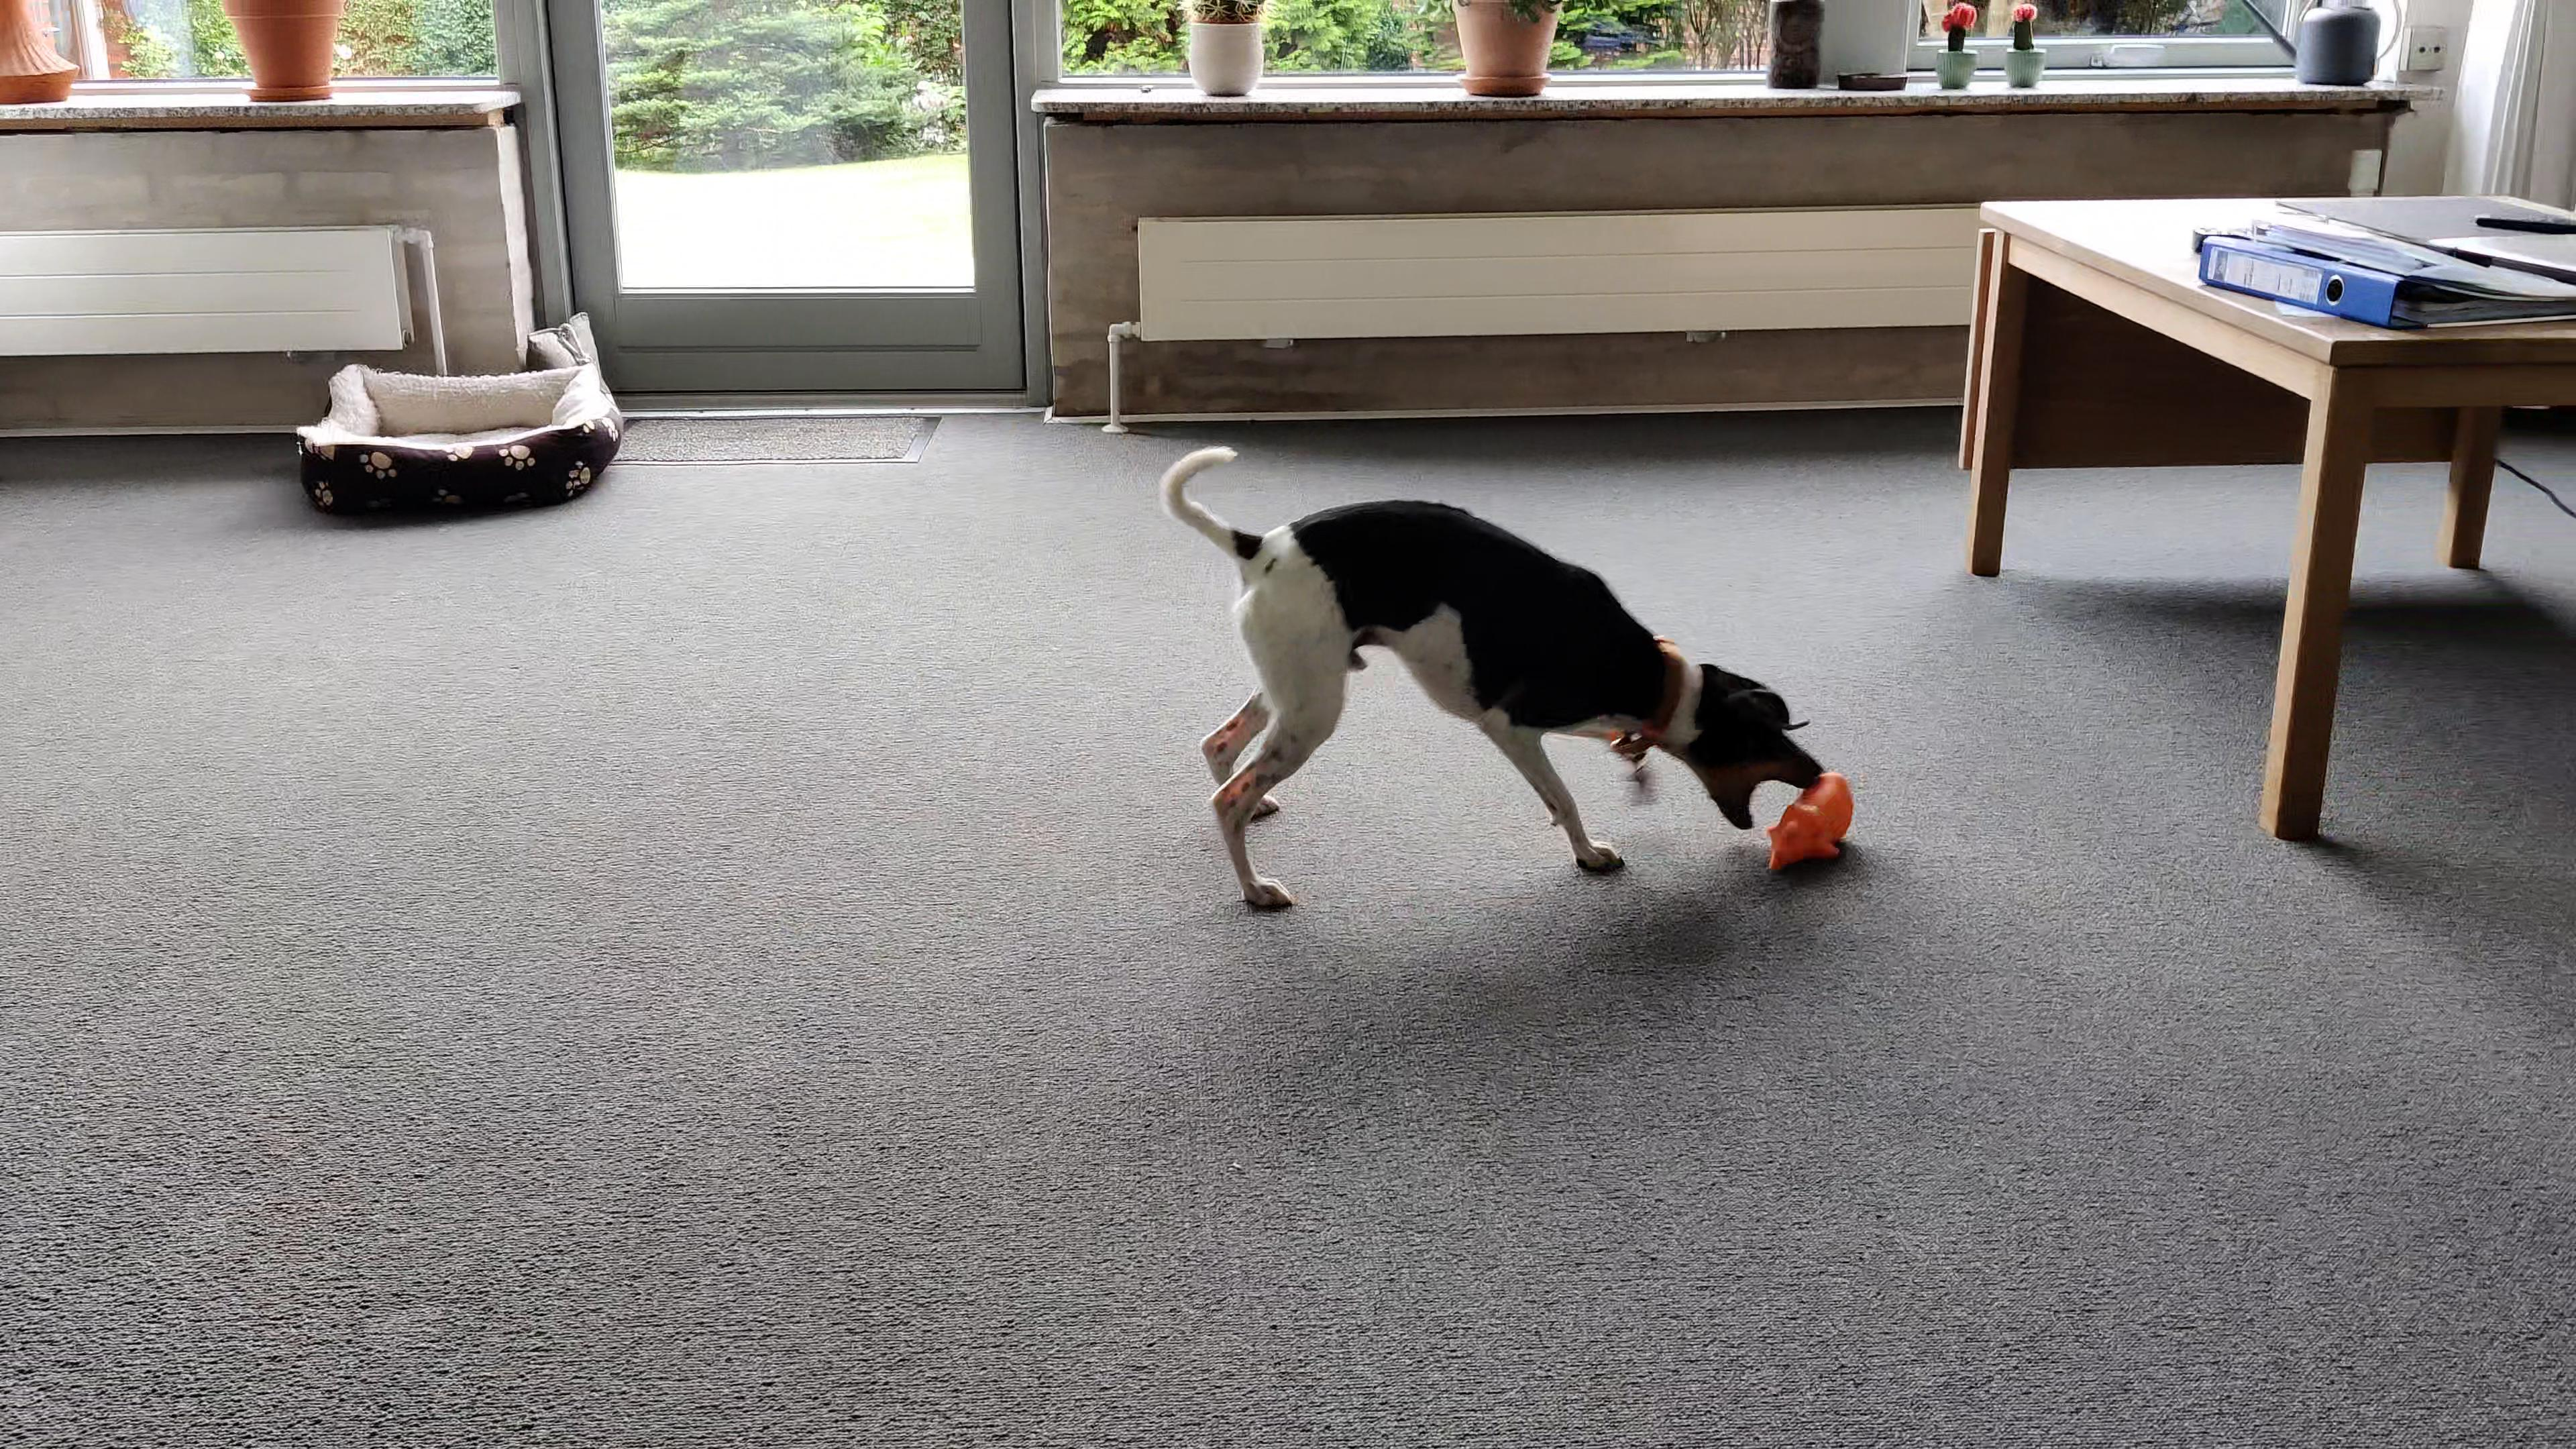Dog: (1132, 416, 1836, 931)
